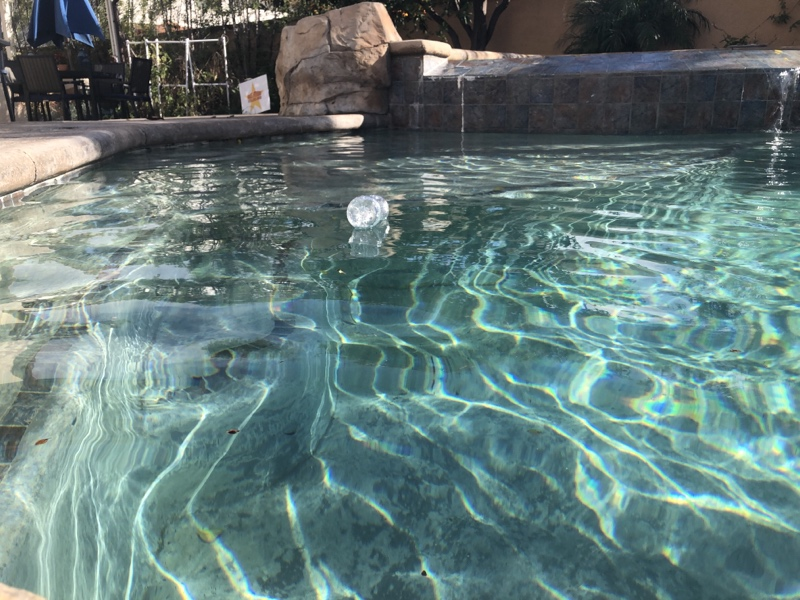Plastic Bottle: (343, 192, 390, 231)
